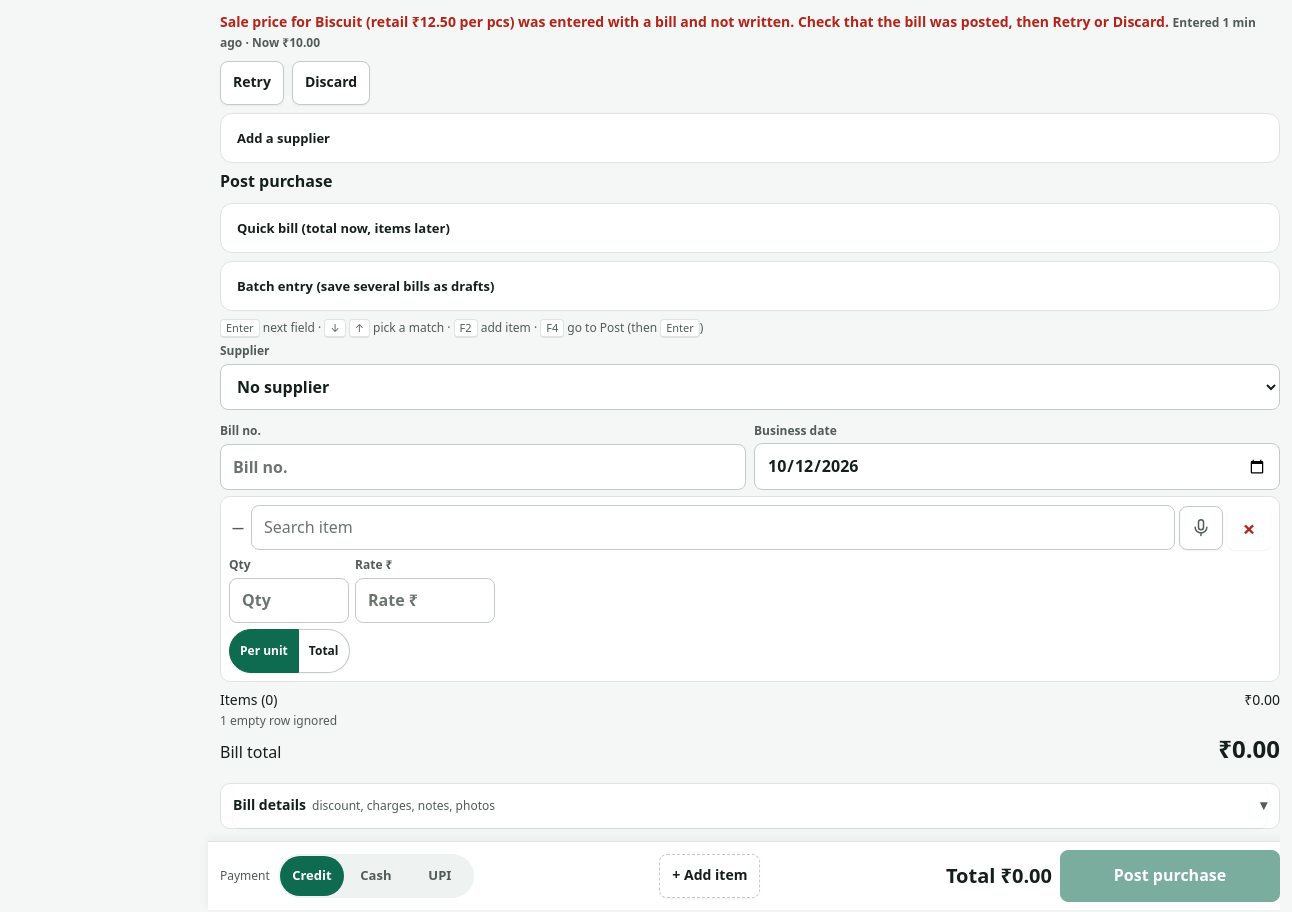
it: Retry writes without asking when the price is still what the bill saw
expect the date field named "date" holds "2026-10-12": met, box [754,443,1280,490]
Click the button "Retry" at point(252, 83), box [220,61,284,105]
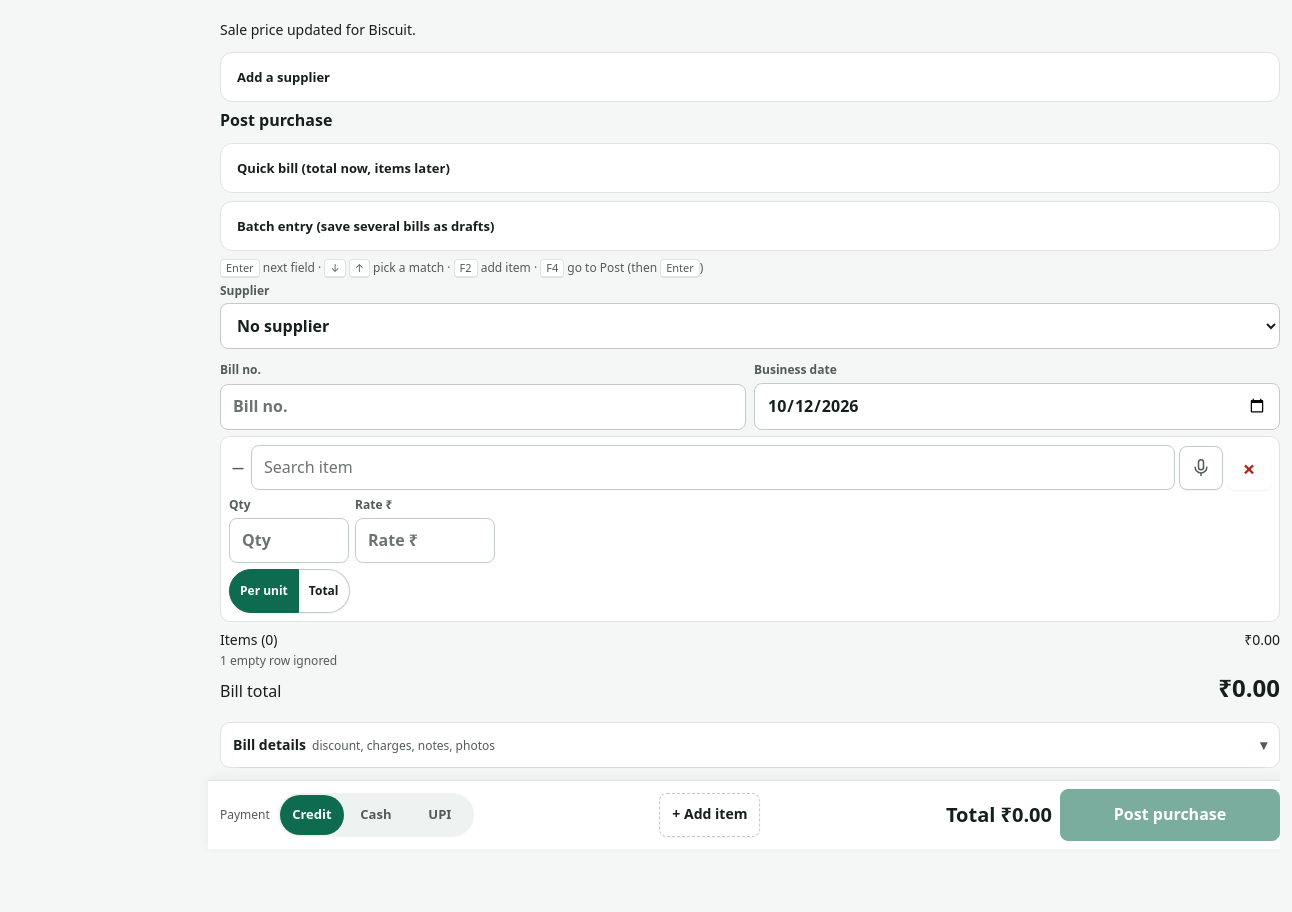
expect the text "Sale price updated for Biscuit." is shown: met, box [220,20,416,39]
